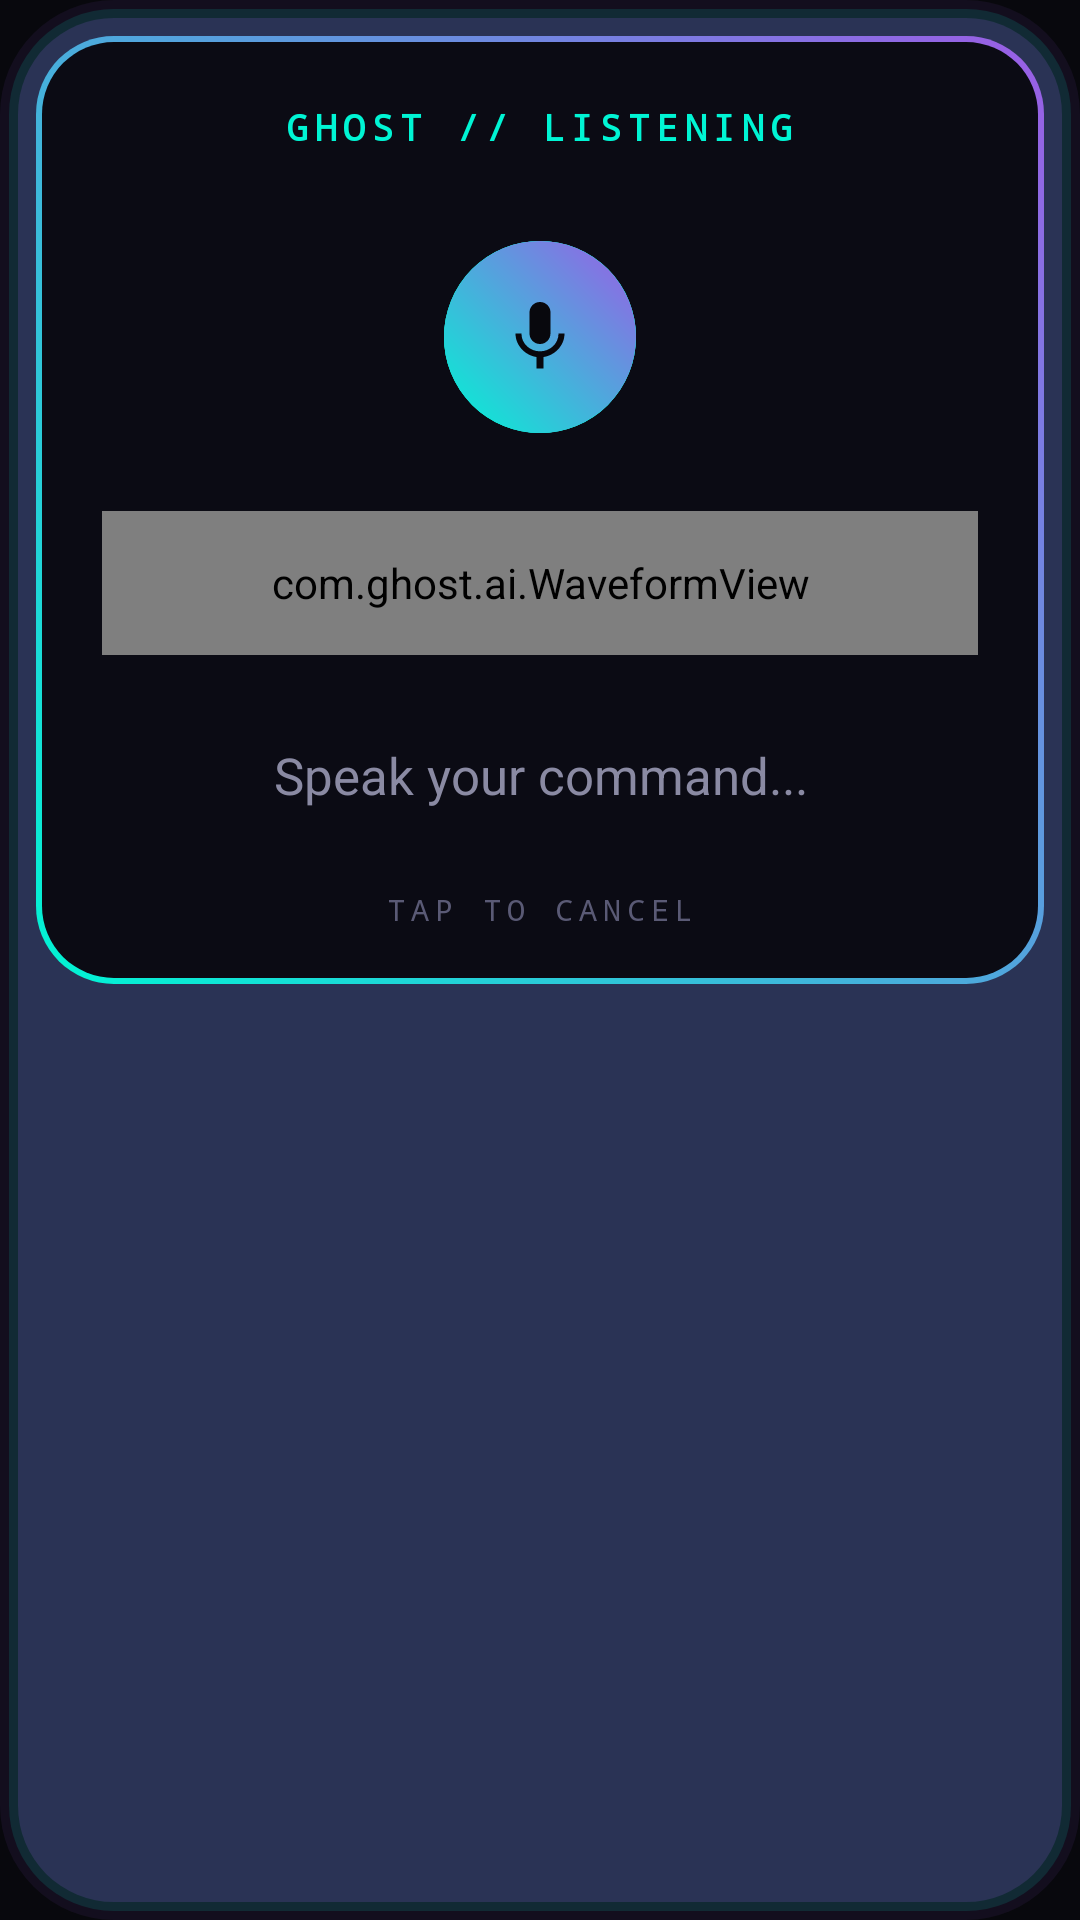

Icons on this 1080x1920 Android screen, each with the point to tap as (x=x, y=y):
mic: (x=531, y=340)
